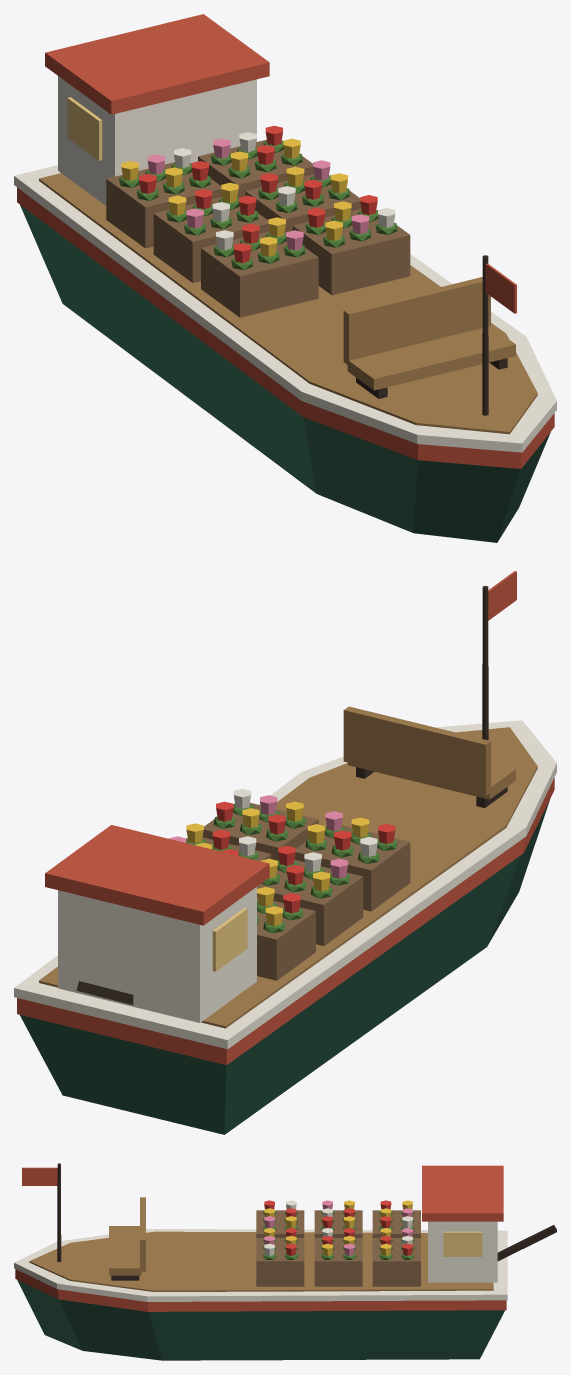
Rendered from barge.glb.
The picture shows the model from 3 angles, top to bottom: view 1: azimuth 30°, elevation 25°; view 2: azimuth 150°, elevation 25°; view 3: azimuth 270°, elevation 25°; orthographic projection. The views are drawn at different scales.
Parts seen in each view (by area): view 1: barge-hull, barge-deck, barge-trim, barge-band, barge-crate, barge-leaf, barge-yellow, barge-red, barge-pink, barge-white, barge-window, barge-dark; view 2: barge-hull, barge-trim, barge-deck, barge-band, barge-crate, barge-leaf, barge-yellow, barge-red, barge-dark, barge-window, barge-white, barge-pink; view 3: barge-hull, barge-deck, barge-band, barge-trim, barge-crate, barge-yellow, barge-red, barge-dark, barge-window, barge-leaf, barge-pink, barge-white.
Boxes of the visible parts, left/top/right/bottom form: barge-hull: left=20, top=205, right=550, bottom=542; barge-deck: left=39, top=173, right=537, bottom=434; barge-trim: left=14, top=76, right=556, bottom=452; barge-band: left=17, top=14, right=554, bottom=468; barge-crate: left=106, top=139, right=410, bottom=317; barge-leaf: left=119, top=140, right=397, bottom=270; barge-yellow: left=121, top=138, right=351, bottom=256; barge-red: left=139, top=125, right=377, bottom=263; barge-pink: left=147, top=138, right=369, bottom=250; barge-white: left=174, top=132, right=395, bottom=250; barge-window: left=67, top=97, right=102, bottom=160; barge-dark: left=356, top=255, right=507, bottom=415; barge-hull: left=20, top=800, right=549, bottom=1134; barge-trim: left=14, top=720, right=556, bottom=1049; barge-deck: left=39, top=706, right=537, bottom=1028; barge-band: left=17, top=571, right=554, bottom=1065; barge-crate: left=202, top=802, right=410, bottom=980; barge-leaf: left=186, top=803, right=397, bottom=933; barge-yellow: left=186, top=801, right=369, bottom=926; barge-red: left=212, top=801, right=395, bottom=913; barge-dark: left=76, top=586, right=507, bottom=1004; barge-window: left=212, top=908, right=247, bottom=971; barge-white: left=233, top=788, right=377, bottom=872; barge-pink: left=168, top=795, right=347, bottom=878; barge-hull: left=17, top=1280, right=504, bottom=1360; barge-deck: left=29, top=1197, right=493, bottom=1291; barge-band: left=15, top=1165, right=506, bottom=1311; barge-trim: left=14, top=1221, right=507, bottom=1301; barge-crate: left=256, top=1210, right=420, bottom=1286; barge-yellow: left=264, top=1200, right=412, bottom=1255; barge-red: left=264, top=1200, right=412, bottom=1255; barge-dark: left=57, top=1163, right=556, bottom=1280; barge-window: left=443, top=1231, right=482, bottom=1256; barge-leaf: left=263, top=1211, right=414, bottom=1259; barge-pink: left=264, top=1200, right=412, bottom=1255; barge-white: left=264, top=1200, right=412, bottom=1255.
Size of the model in its own units: 2.06 by 2.43 by 7.
